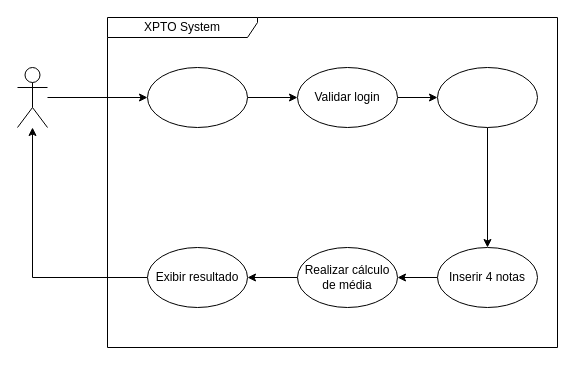
This 575x365 diagram has some shape labels left out. Each missing label, with the centre of its shape:
"Acessar campo de notas" goes at (x=487, y=97).
"Inserir dados de login" goes at (x=197, y=97).
"User" goes at (x=32, y=97).
